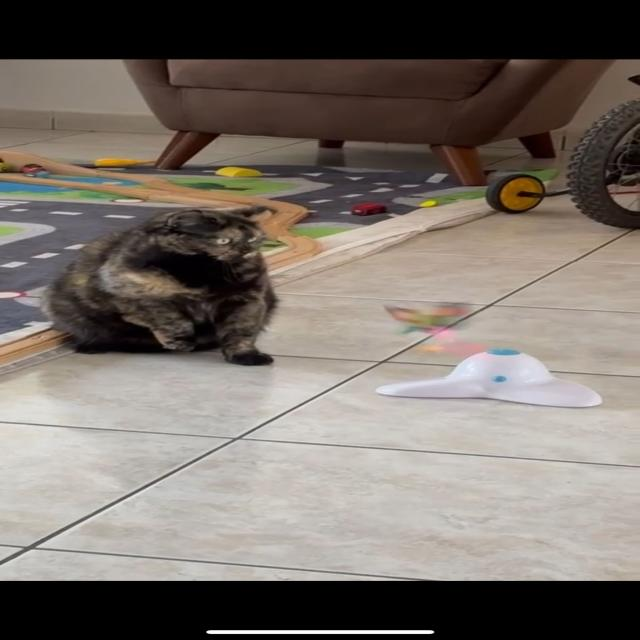authorized: (38, 204, 280, 366)
